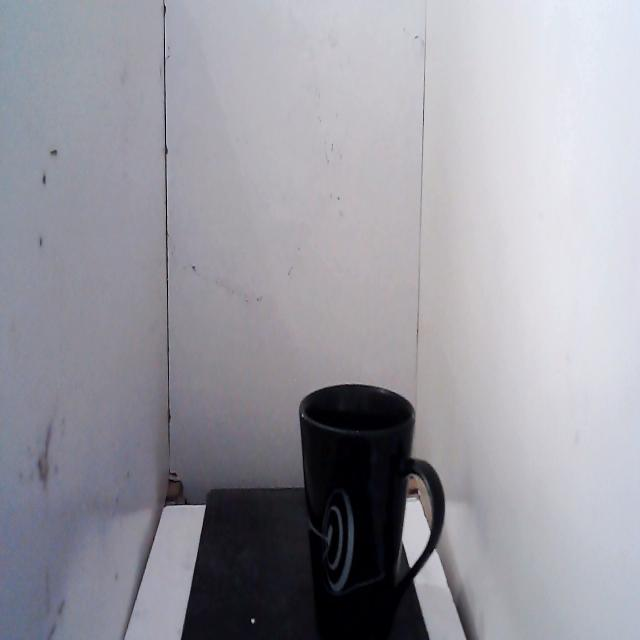glass: (292, 364, 448, 629)
